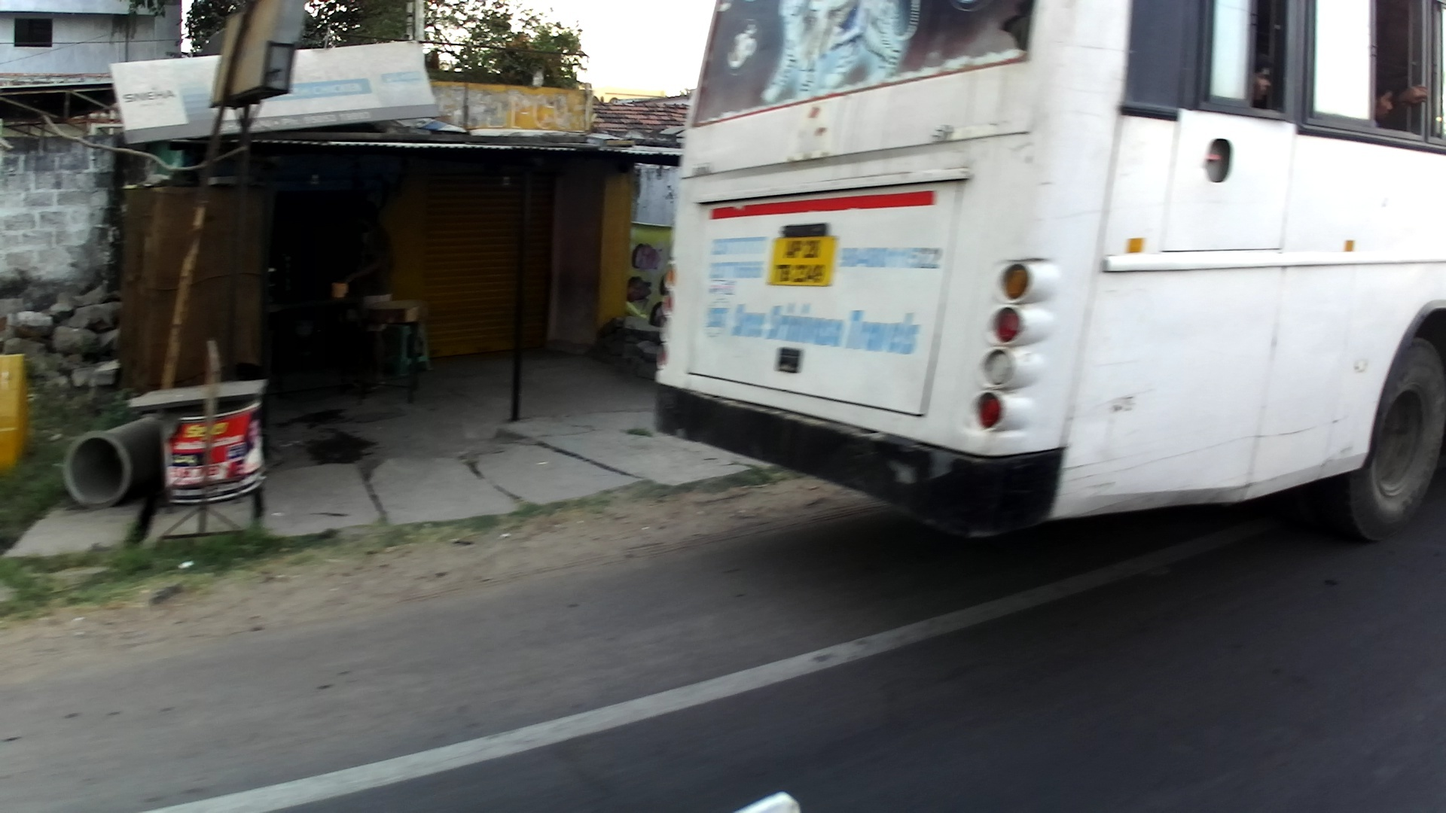bus: (654, 0, 1444, 580)
